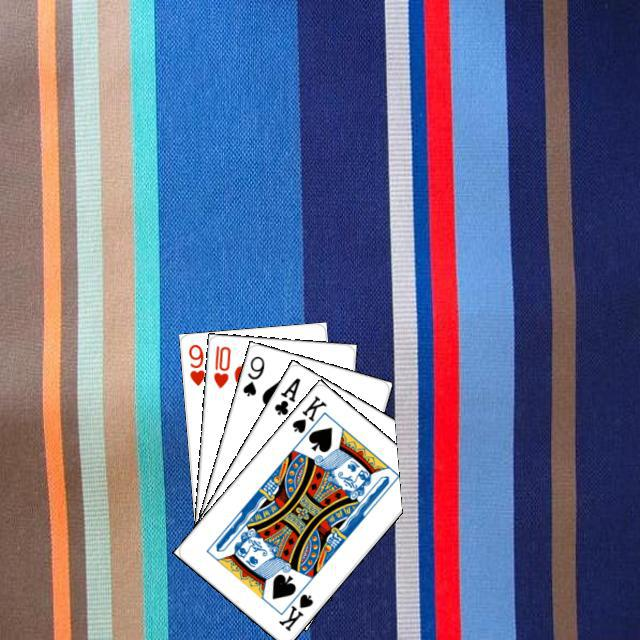10h: (208, 341, 232, 390)
9h: (183, 339, 206, 388)
9s: (238, 351, 266, 398)
Ac: (269, 372, 302, 417)
Ks: (273, 581, 315, 633), (287, 391, 329, 435)
